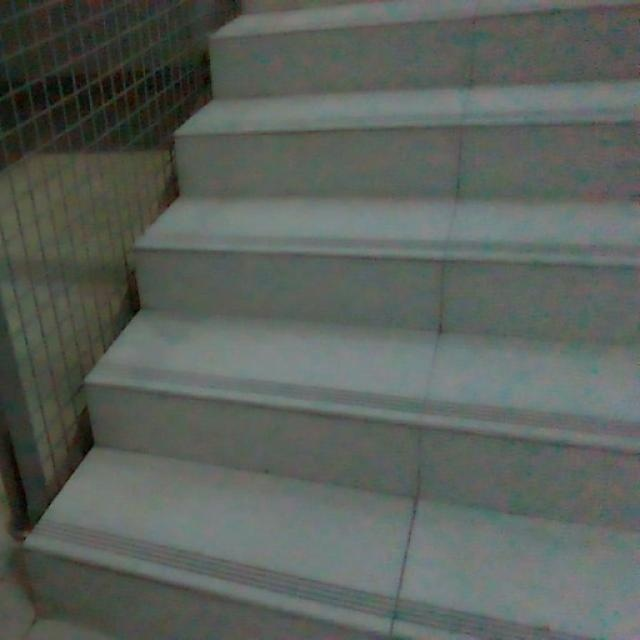stair: (32, 0, 640, 624)
